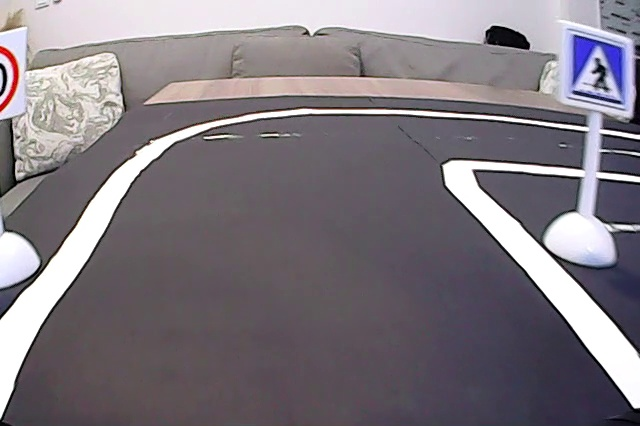pedestrian crossing: (564, 27, 628, 109)
